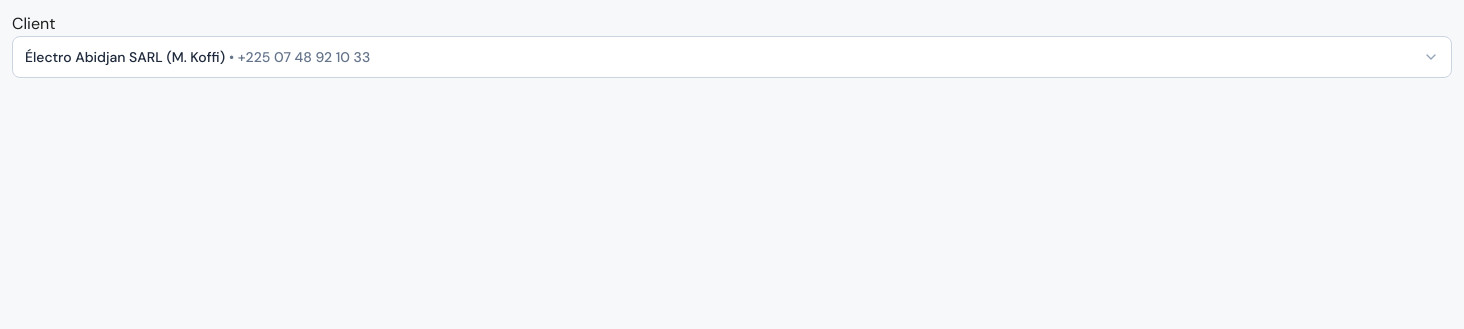
Test case: SearchableSelect › filtre par téléphone et choisit au clavier
The width and height of the screenshot is (1464, 329).
Click the button named "Client" at (125, 57), box x1=12 y1=36 x2=1452 y2=78
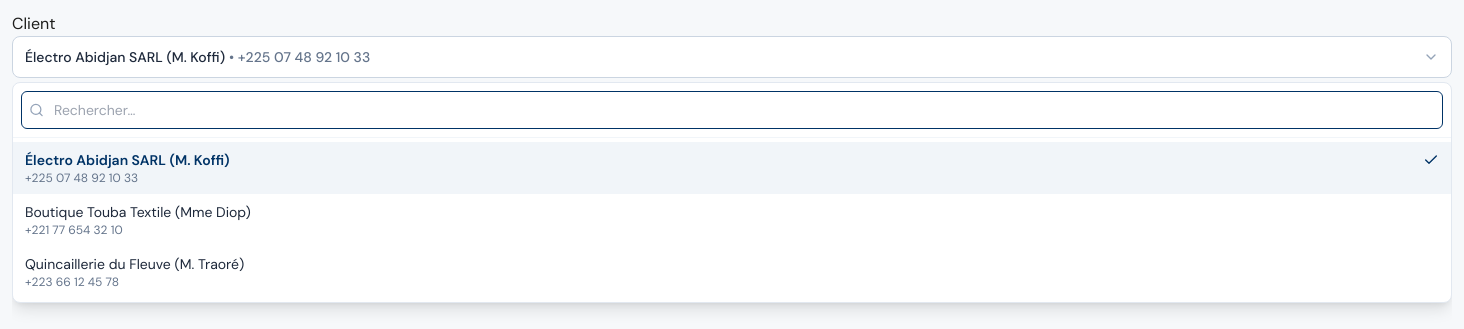
Type keys "654 32"
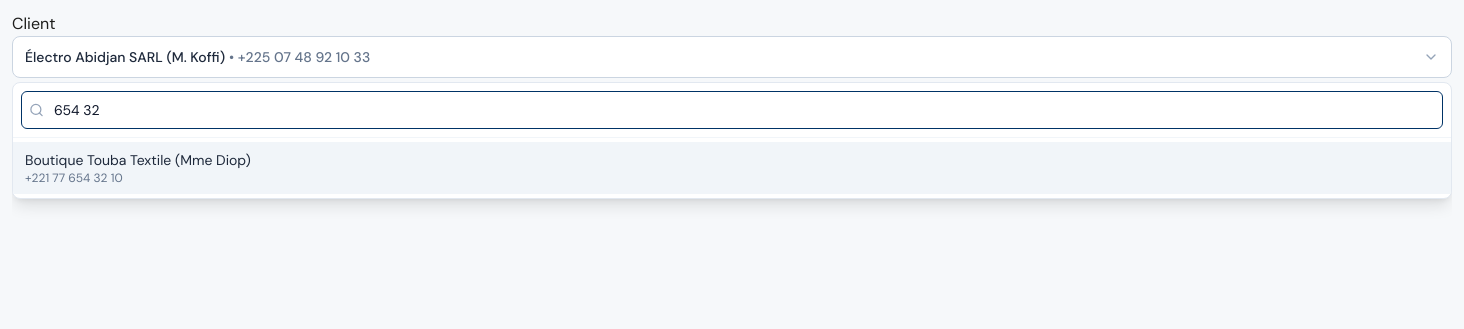
expect the number of options is 1: met, box x1=13 y1=142 x2=1451 y2=194
Press Enter
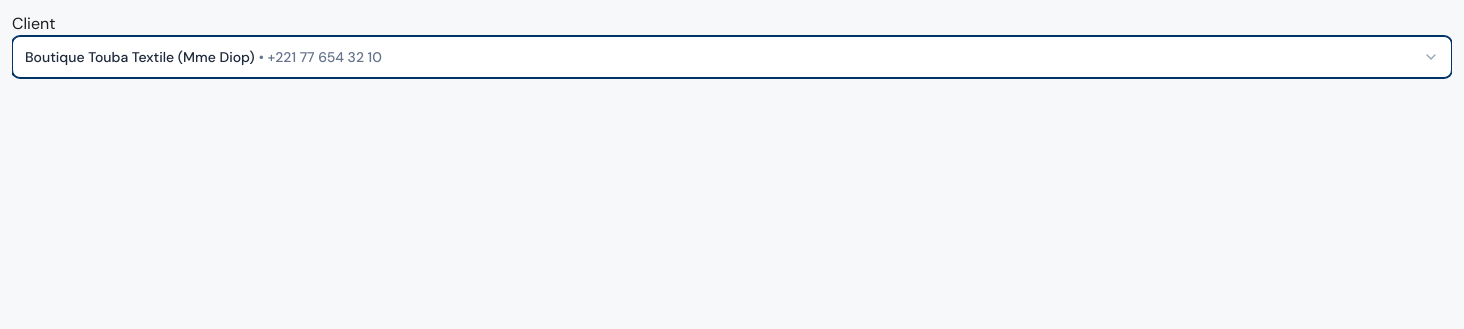
expect the button named "Client" shows "Boutique Touba Textile": met, box x1=12 y1=36 x2=1452 y2=78
expect the list is gone: met
